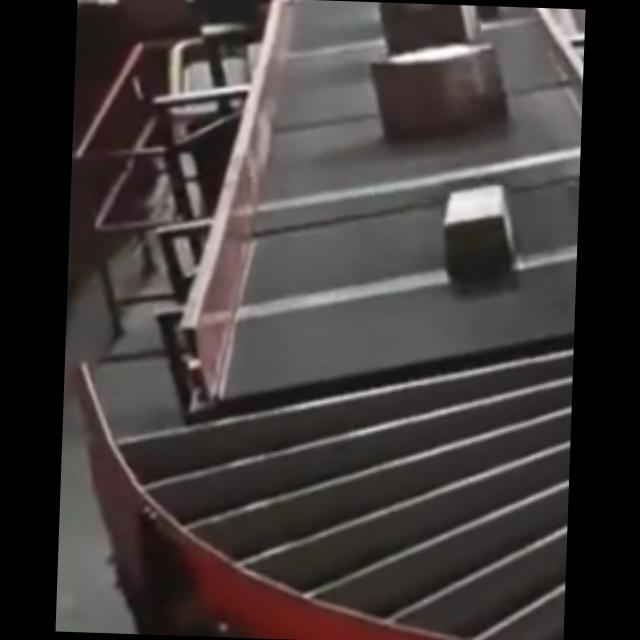box: (368, 39, 508, 144), (444, 184, 514, 276), (374, 2, 479, 53)
